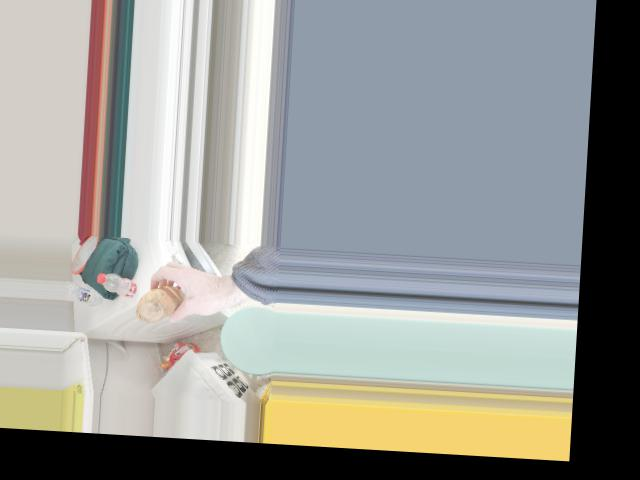sweet_potato: (135, 281, 186, 324)
